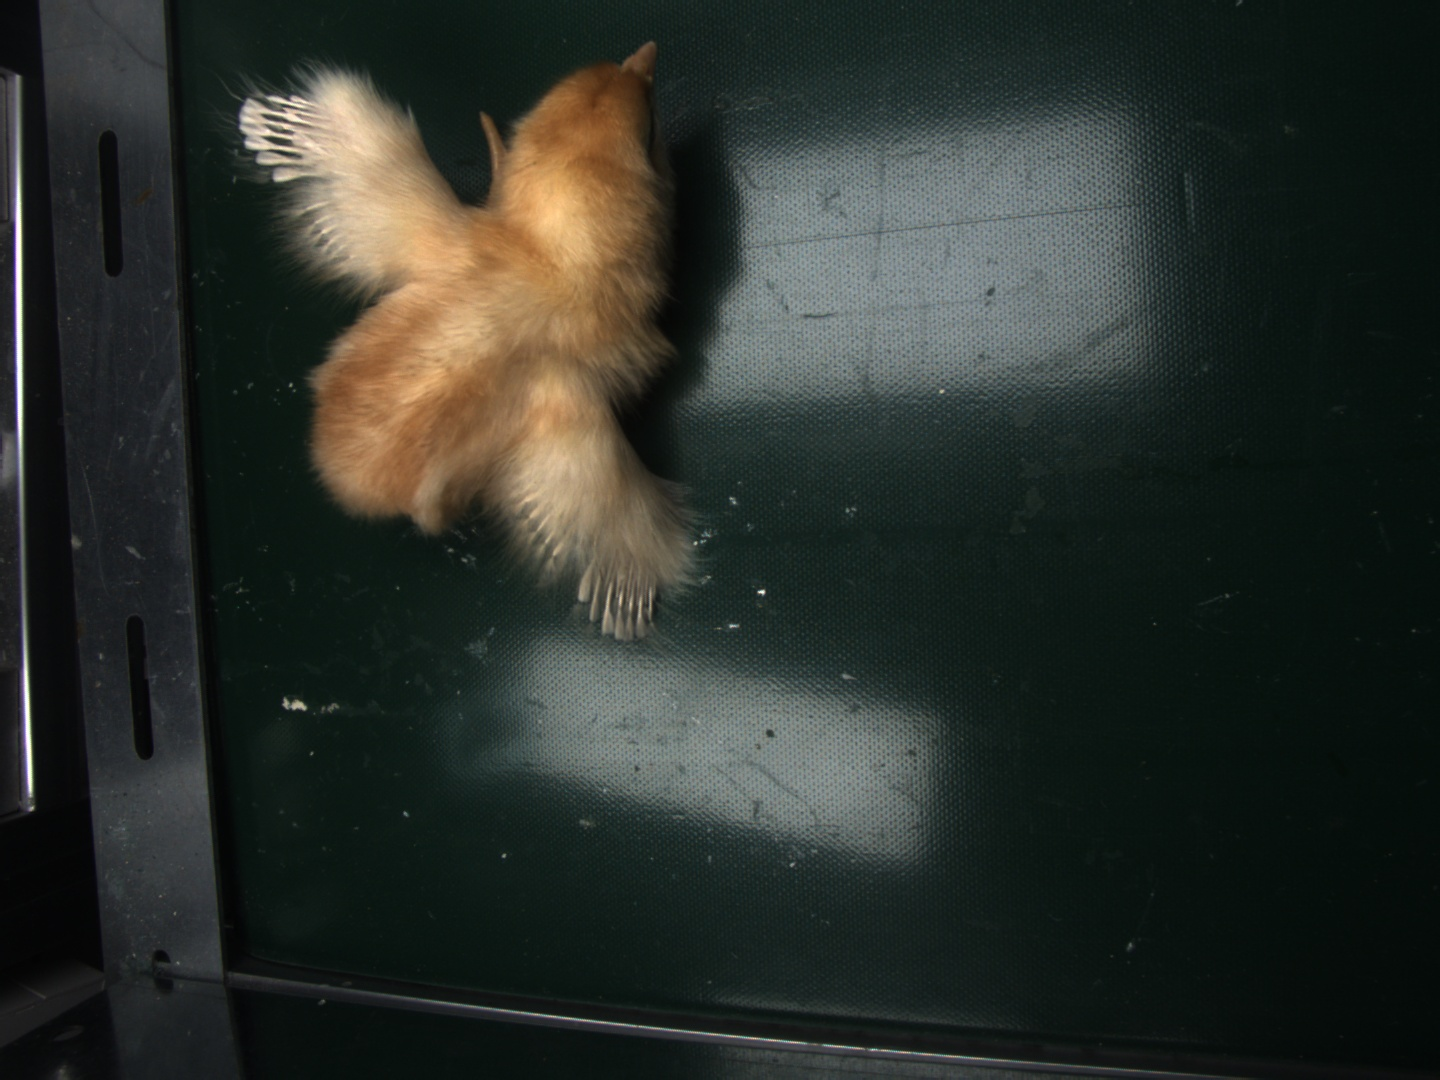female: (237, 95, 322, 182), (583, 558, 664, 648)
